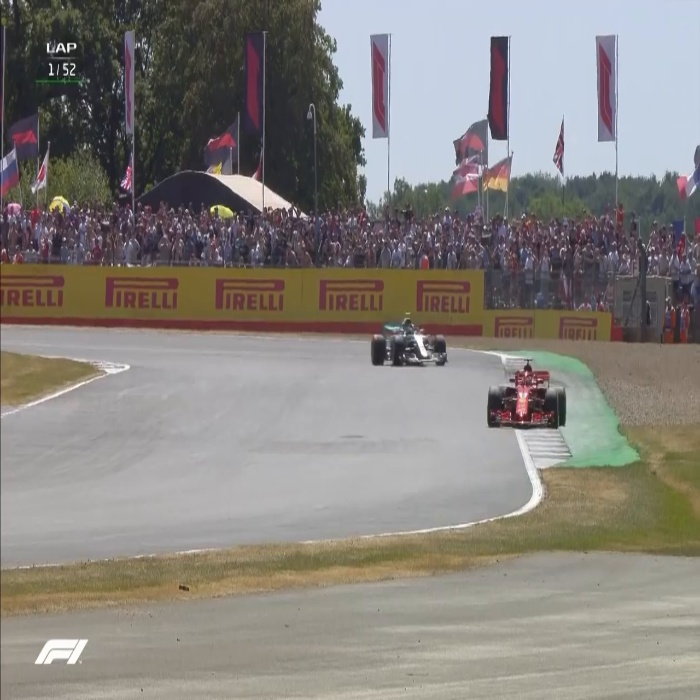f1_car: (475, 358, 572, 437), (350, 312, 458, 375)
